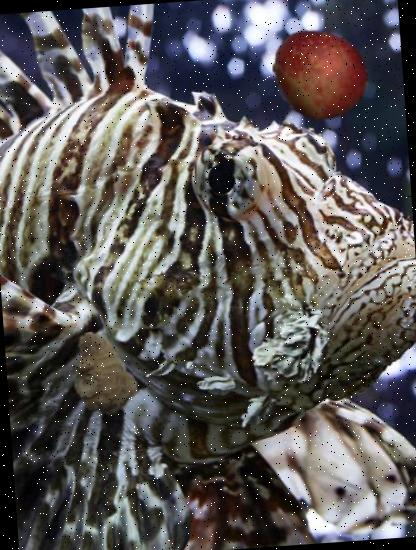Ginger: (58, 326, 150, 418)
Nectarine: (270, 24, 370, 125)
